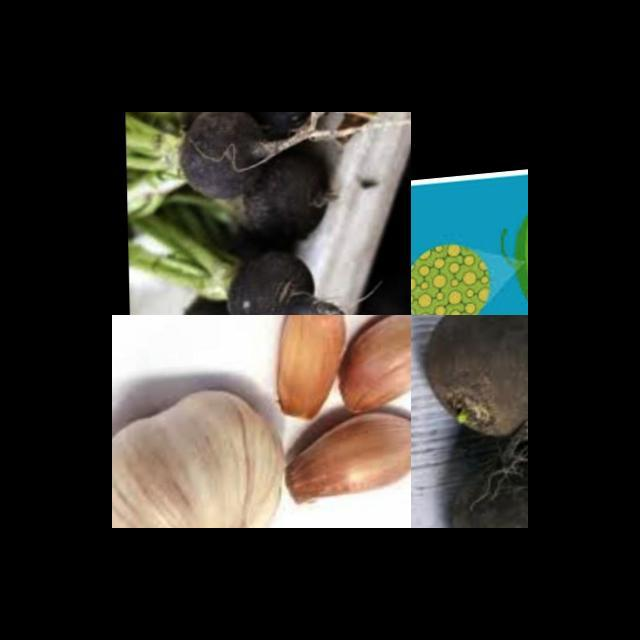garlic: (112, 379, 294, 528), (276, 393, 411, 522), (266, 315, 359, 428), (331, 315, 411, 426)
